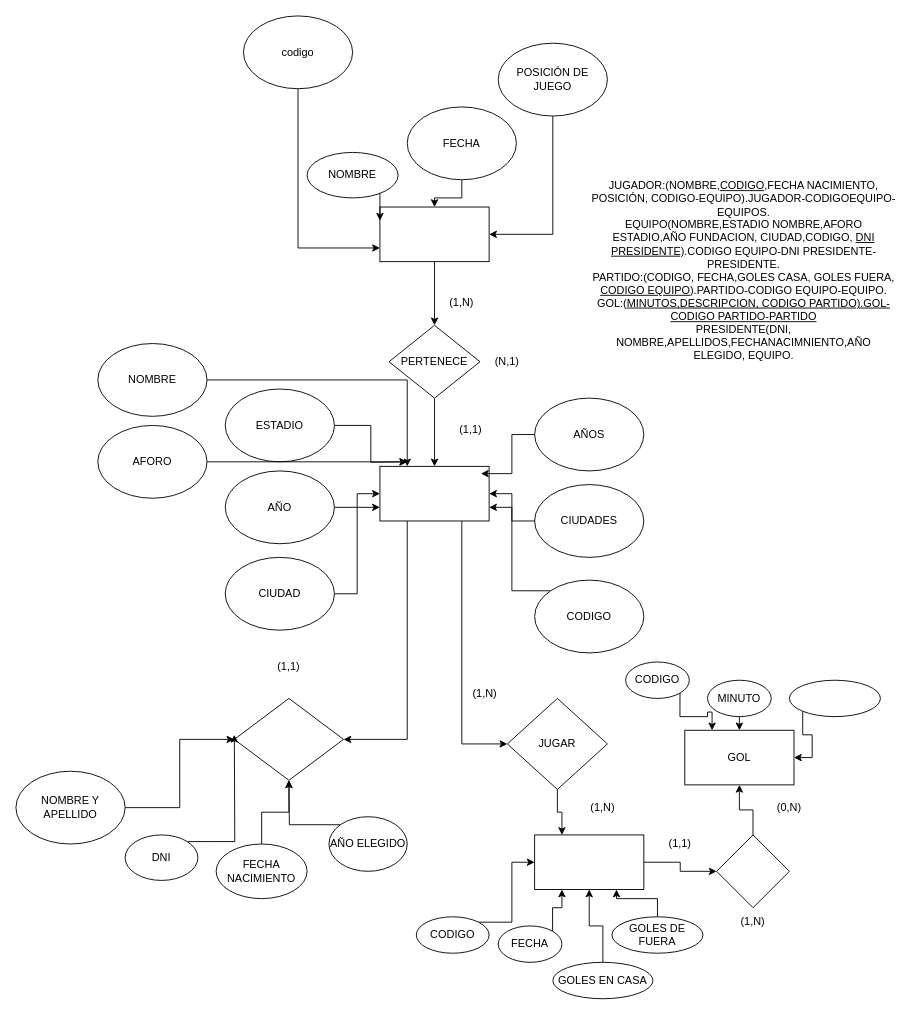
Some shapes in this 915 by 1015 pixel diagram are drawn without their labels. Here are the shapes that lost their labels. From the top down, the box of each, then its label:
(379, 206, 489, 262): JUGADOR
(379, 465, 489, 521): EQUIPOS
(789, 679, 880, 717): DISCRIPCIÓN
(233, 698, 344, 780): PRESIDENTE
(534, 834, 644, 890): PARTIDO
(716, 834, 789, 908): TIENE
